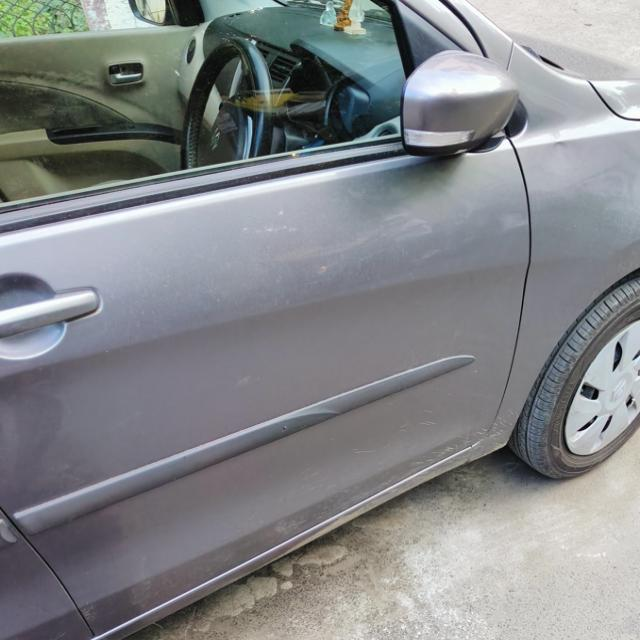scratch: (284, 431, 516, 493), (227, 368, 266, 394), (311, 262, 337, 284)
